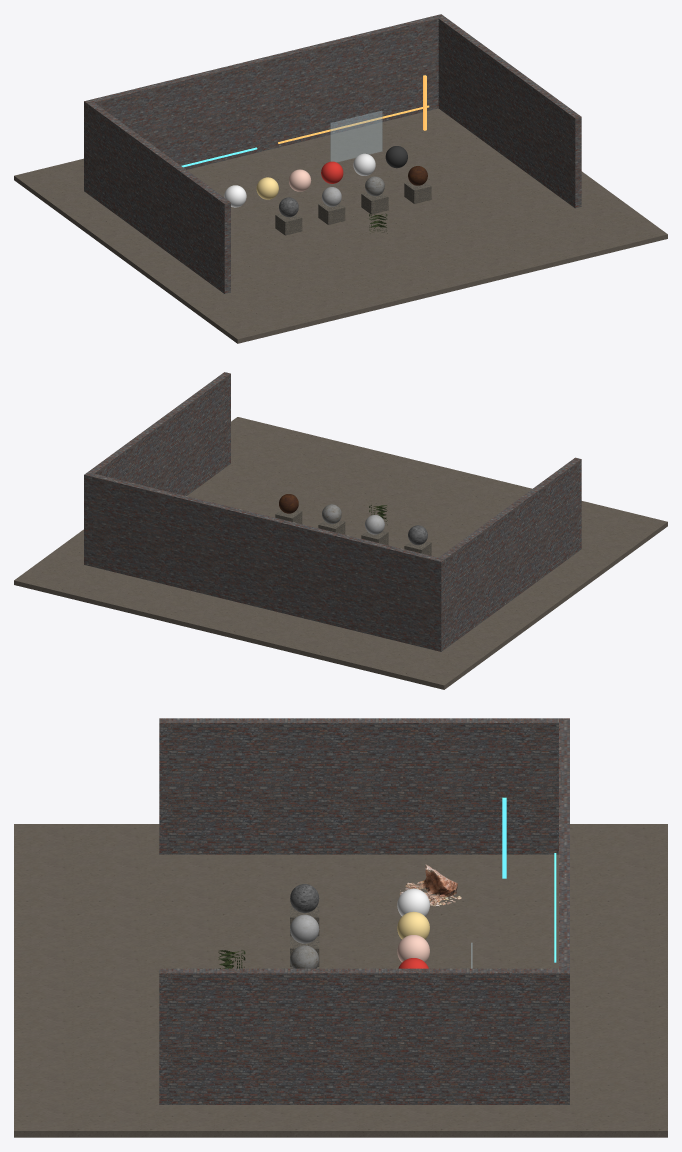
The model's file is showcase.gltf.
3 views of the same model, one above another, from view 1: azimuth 30°, elevation 25°; view 2: azimuth 150°, elevation 25°; view 3: azimuth 270°, elevation 25° (orthographic). The views are drawn at different scales.
Parts seen in each view (by area): view 1: Floor, WallBack, WallRight, WallLeft, GlassPane, Pedestal1, Pedestal3, Pedestal0, Pedestal2; view 2: Floor, WallBack, WallLeft, WallRight; view 3: Floor, WallRight, WallLeft, WallBack, GraniteRock, SphereChrome, SphereGold, SphereCopper, TexturedSphere1, TexturedSphere0.
Part boxes in pixels (box(x1,y1,x2,y2)): Floor: box(14, 108, 667, 343); WallBack: box(84, 14, 444, 193); WallRight: box(438, 17, 581, 208); WallLeft: box(88, 102, 230, 293); GlassPane: box(330, 111, 382, 162); Pedestal1: box(318, 203, 345, 224); Pedestal3: box(404, 182, 431, 203); Pedestal0: box(275, 213, 302, 235); Pedestal2: box(361, 192, 388, 214); Floor: box(14, 417, 667, 689); WallBack: box(84, 472, 444, 651); WallLeft: box(439, 457, 581, 648); WallRight: box(88, 372, 230, 495); Floor: box(14, 824, 667, 1137); WallRight: box(159, 968, 558, 1104); WallLeft: box(159, 718, 558, 854); WallBack: box(559, 718, 569, 1104); GraniteRock: box(399, 864, 461, 906); SphereChrome: box(397, 888, 429, 916); SphereGold: box(397, 911, 429, 939); SphereCopper: box(397, 935, 429, 962); TexturedSphere1: box(290, 914, 319, 943); TexturedSphere0: box(290, 884, 319, 912).
Bounding box in the file's own units: 20 × 4.2 × 18.
19 materials, 10 textured.
